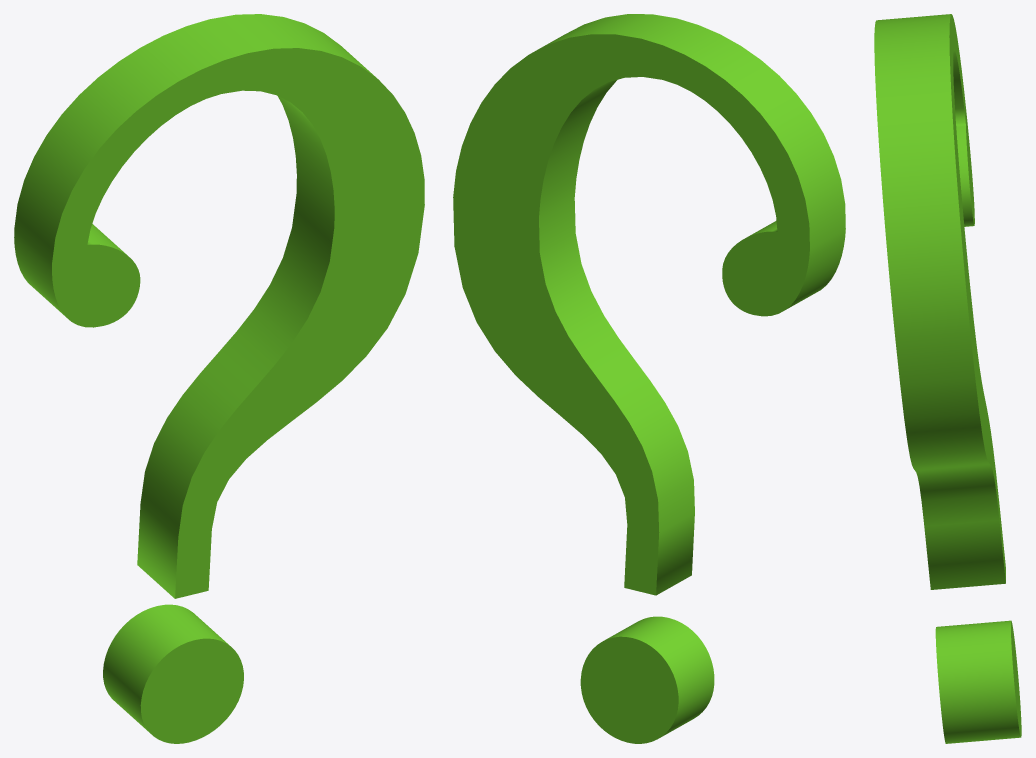
Rendered from VPRASAJ-zelen.fbx.
3 views of the same model, side by side, from view 1: azimuth 30°, elevation 25°; view 2: azimuth 150°, elevation 25°; view 3: azimuth 270°, elevation 25° (orthographic). The views are drawn at different scales.
Visible parts, largest first — view 1: Text; view 2: Text; view 3: Text.
Part boxes in pixels (<box>): Text: <box>14,14,424,743</box>; Text: <box>453,14,845,743</box>; Text: <box>874,14,1021,743</box>.
Size of the model in its own units: 46.64 by 85.29 by 15.98.
